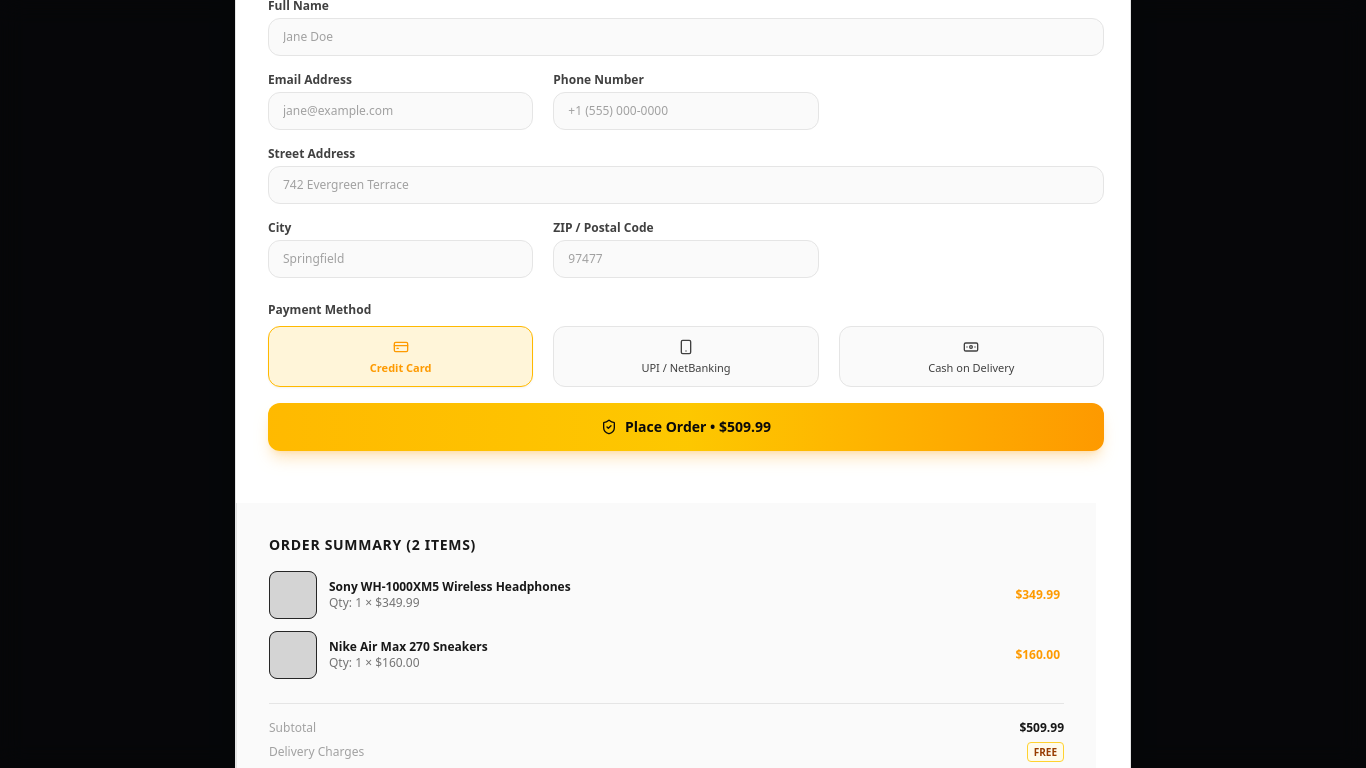
Checkout Component › submits successfully with valid details and displays confirmation
# Fill out form
Type "Alex Morgan" into the field with placeholder "Jane Doe". click: coordinates (686, 37)
box: [268,18,1104,56]
Type "alex@example.com" into the field with placeholder "jane@example.com". click: coordinates (401, 111)
box: [268,92,533,130]
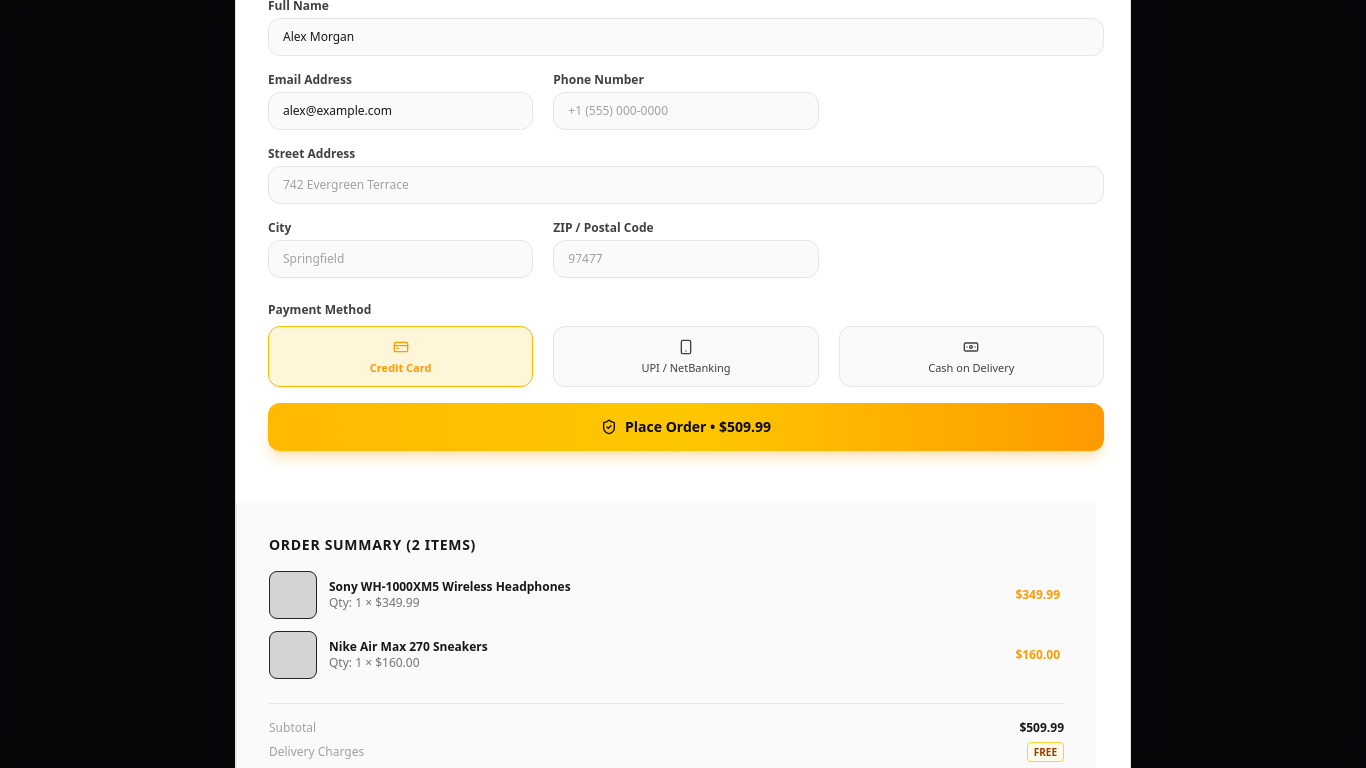
Type "+1 555 123 4567" into the field with placeholder "+1 (555) 000-0000". click: coordinates (686, 111)
box: [553,92,819,130]
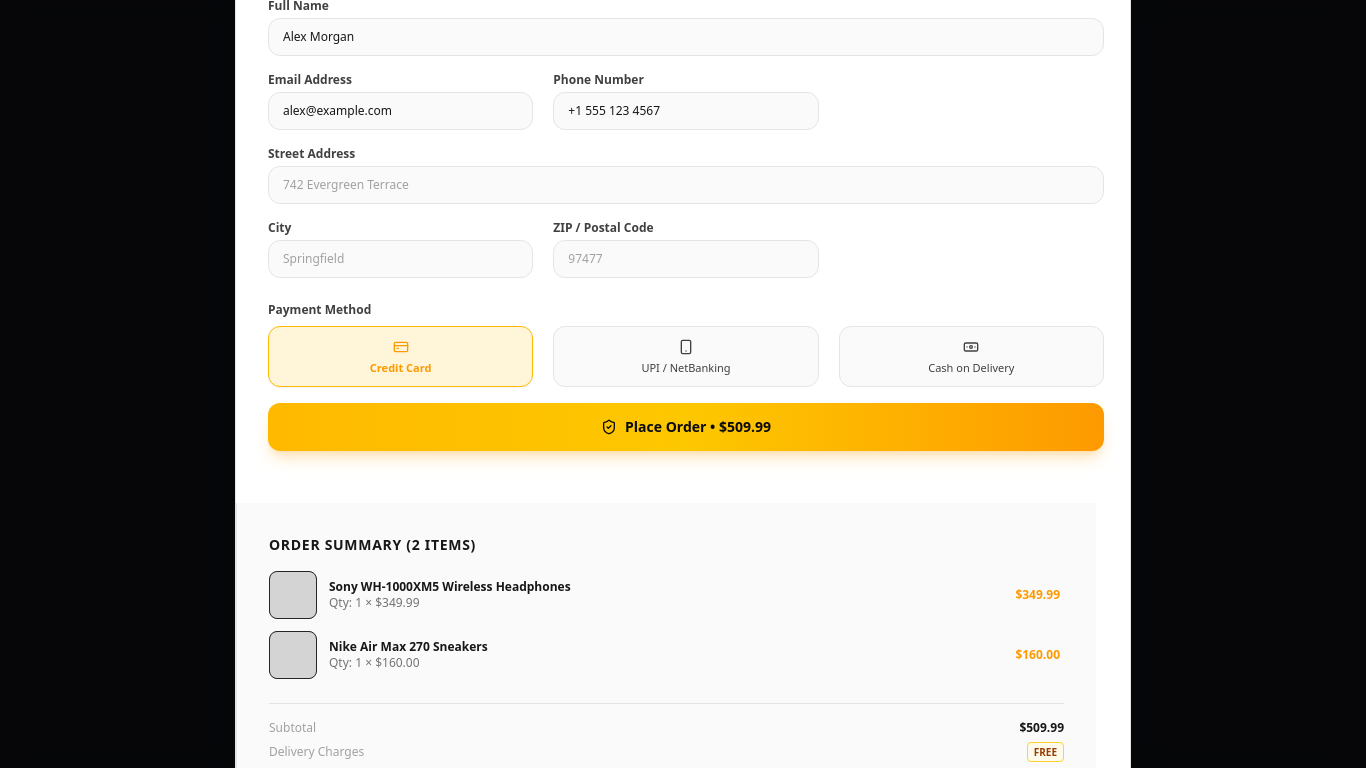
Type "123 Golden Avenue" into the field with placeholder "742 Evergreen Terrace". click: coordinates (686, 185)
box: [268,166,1104,204]
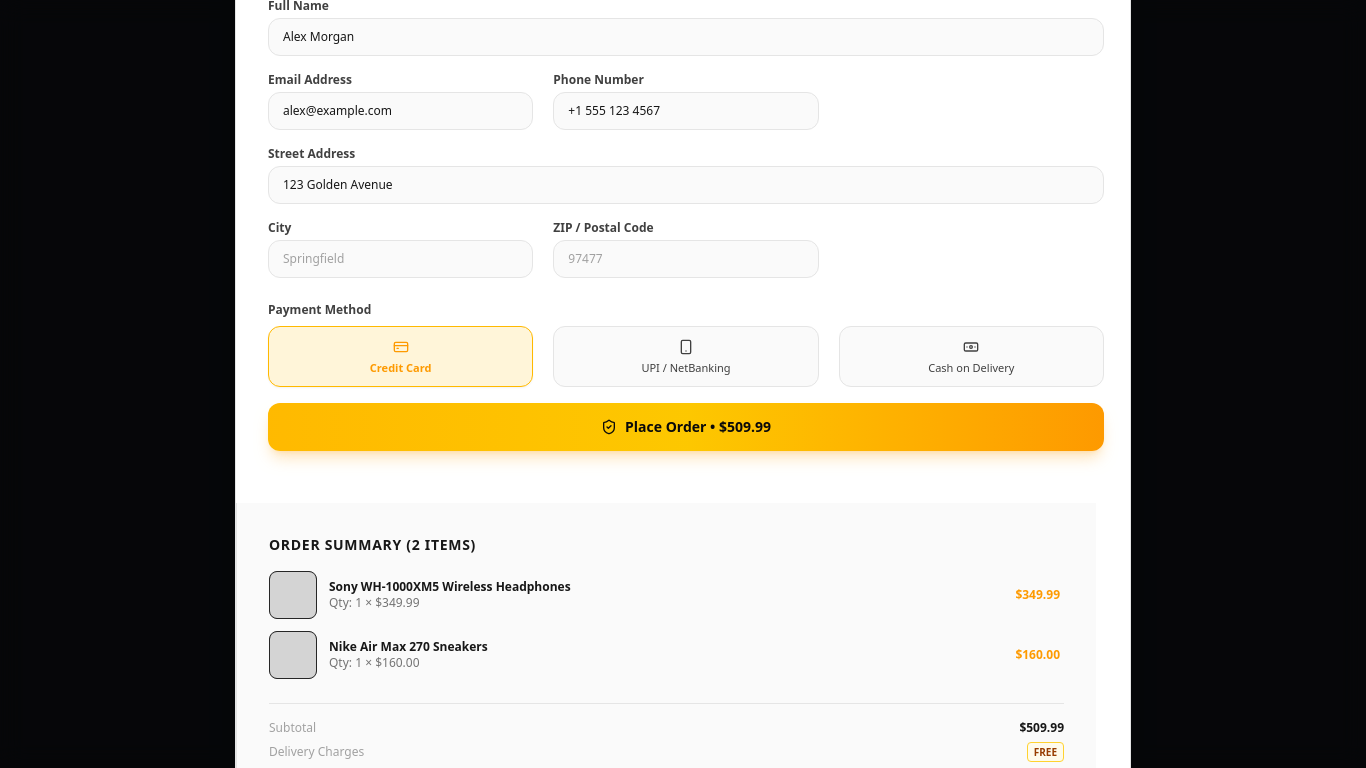
Type "San Francisco" into the field with placeholder "Springfield". click: coordinates (401, 259)
box: [268,240,533,278]
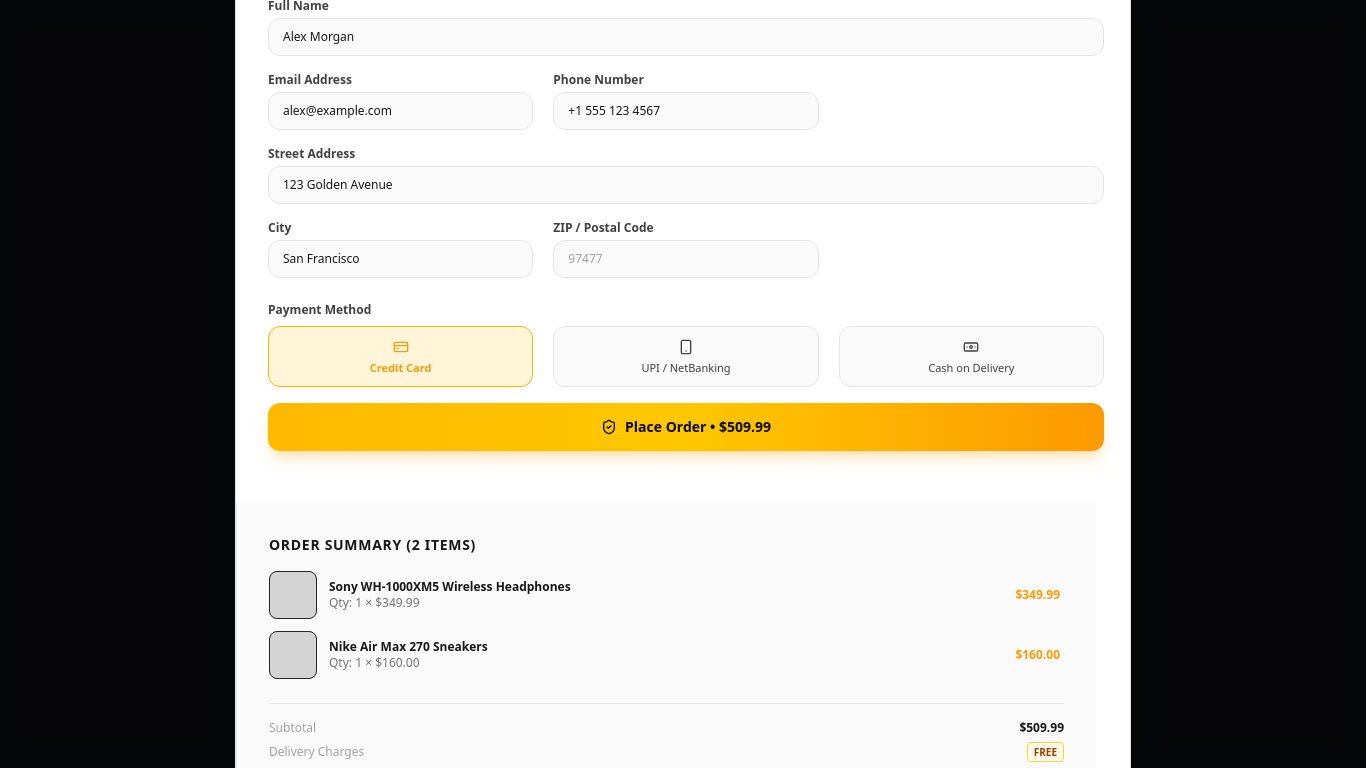
Type "94101" into the field with placeholder "97477". click: coordinates (686, 259)
box: [553,240,819,278]
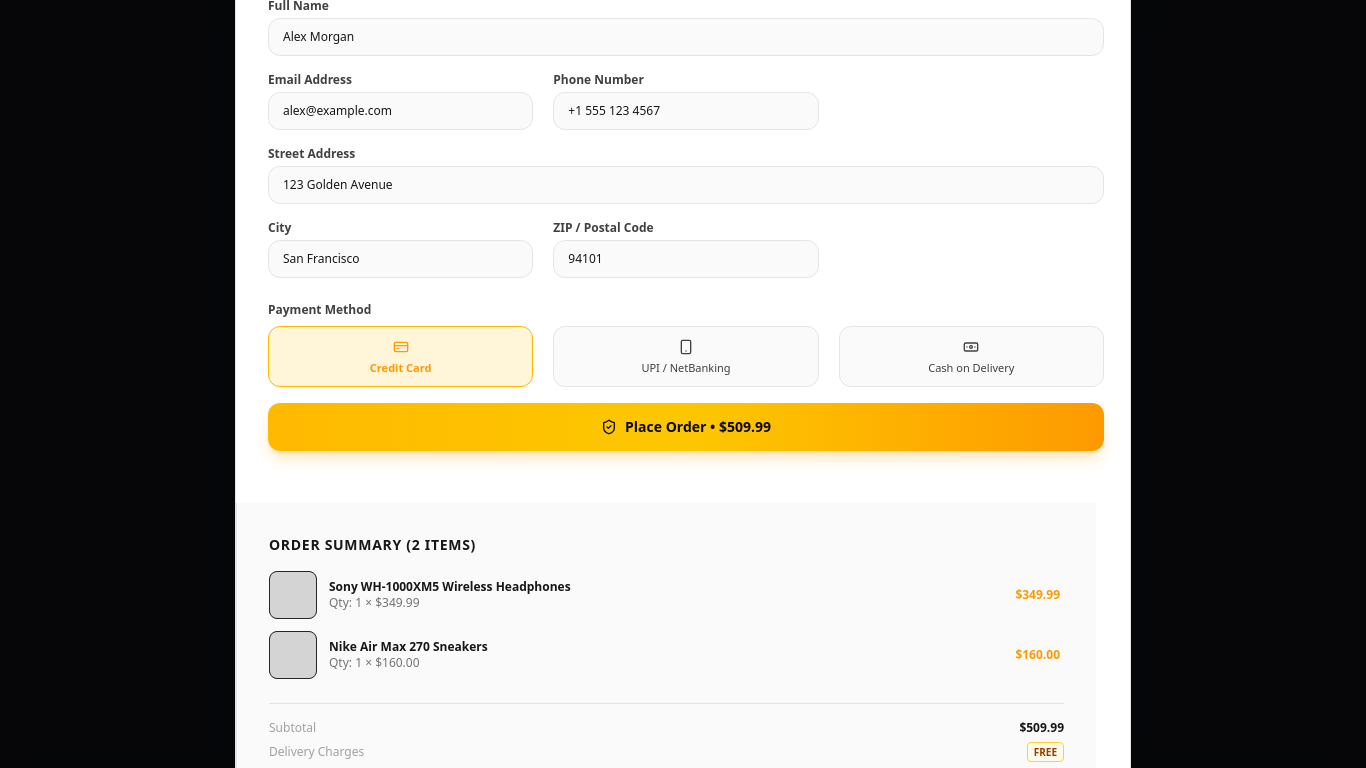
Click the button "Place Order • $509.99". click: coordinates (686, 427)
box: [268,403,1104,451]
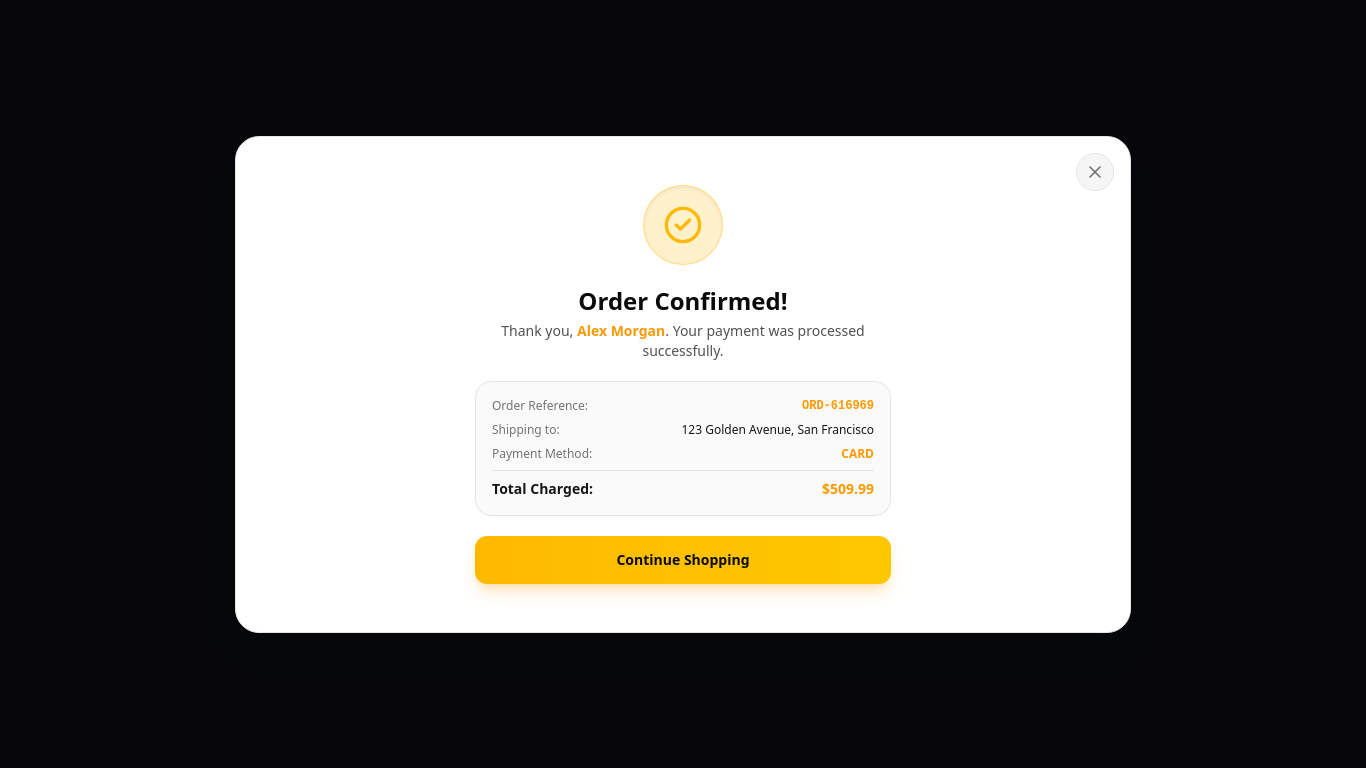
Expected: the heading "Order Confirmed!" is shown, [578,284,788,316]
Expected: the text "Alex Morgan" is shown, [577,320,665,340]
Expected: the text "123 Golden Avenue, San Francisco" is shown, [682,422,874,438]
